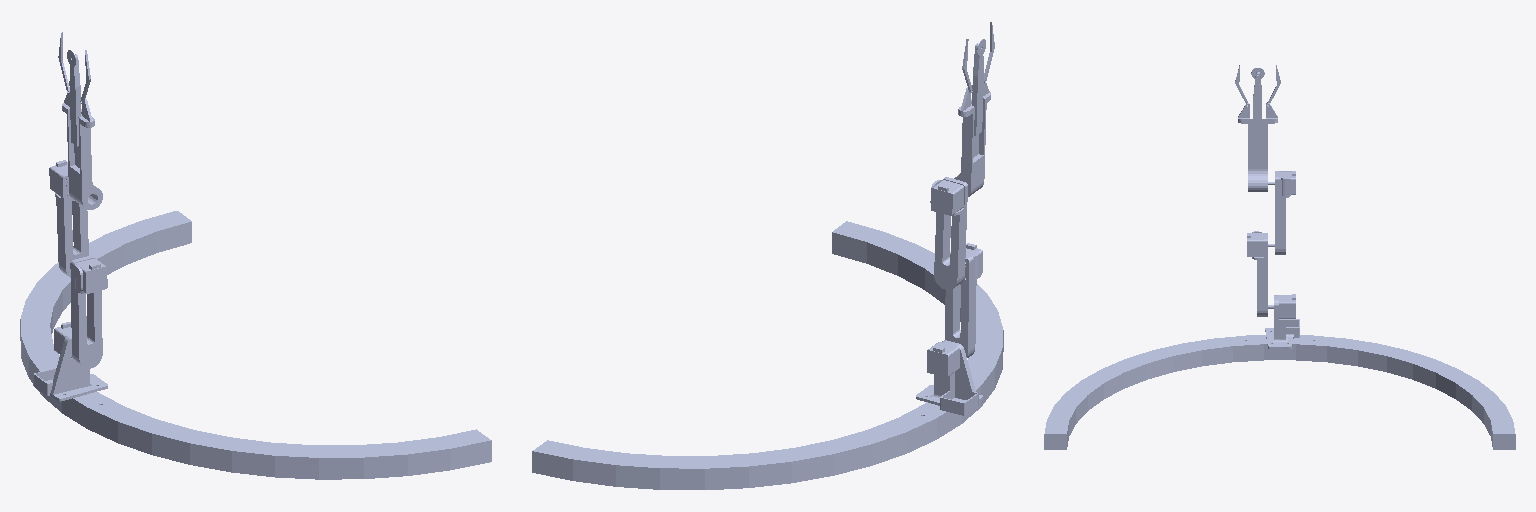
The robot description file, URDF, robot "urdf_assembly7":
<?xml version="1.0" encoding="utf-8"?>
<!-- This URDF was automatically created by SolidWorks to URDF Exporter! Originally created by [author] ([email redacted]) 
     Commit Version: 1.6.0-4-g7f85cfe  Build Version: 1.6.7995.38578
     For more information, please see http://wiki.ros.org/sw_urdf_exporter -->
<robot
  name="urdf_assembly7">
  <link name="world"/>
<joint name="base_joint" type="fixed">
<parent link="world"/>
<child link="base_link"/>
<origin rpy="0 0 0" xyz="0.0 0.0 0.17"/>
</joint>
  <link
    name="base_link">
    <inertial>
      <origin
        xyz="0.18715 -0.0036641 -0.02"
        rpy="0 0 0" />
      <mass
        value="3.1393" />
      <inertia
        ixx="0.39409"
        ixy="-7.8008E-16"
        ixz="5.8268E-18"
        iyy="0.075189"
        iyz="-1.3825E-15"
        izz="0.46844" />
    </inertial>
    <visual>
      <origin
        xyz="0 0 0"
        rpy="0 0 0" />
      <geometry>
        <mesh
          filename="package://urdf_assembly7/meshes/base_link.STL" />
      </geometry>
      <material
        name="">
        <color
          rgba="0.79216 0.81961 0.93333 1" />
      </material>
    </visual>
    <collision>
      <origin
        xyz="0 0 0"
        rpy="0 0 0" />
      <geometry>
        <mesh
          filename="package://urdf_assembly7/meshes/base_link.STL" />
      </geometry>
    </collision>
  </link>
  <link
    name="link_1">
    <inertial>
      <origin
        xyz="0.0022751 0.0027273 0.048"
        rpy="0 0 0" />
      <mass
        value="0.18755" />
      <inertia
        ixx="0.00012837"
        ixy="5.4308E-06"
        ixz="-6.4792E-06"
        iyy="0.00016574"
        iyz="1.1697E-05"
        izz="0.00010234" />
    </inertial>
    <visual>
      <origin
        xyz="0 0 0"
        rpy="0 0 0" />
      <geometry>
        <mesh
          filename="package://urdf_assembly7/meshes/link_1.STL" />
      </geometry>
      <material
        name="">
        <color
          rgba="0.79216 0.81961 0.93333 1" />
      </material>
    </visual>
    <collision>
      <origin
        xyz="0 0 0"
        rpy="0 0 0" />
      <geometry>
        <mesh
          filename="package://urdf_assembly7/meshes/link_1.STL" />
      </geometry>
    </collision>
  </link>
  <joint
    name="joint_1"
    type="fixed">
    <origin
      xyz="0 0 0"
      rpy="0 0 0" />
    <parent
      link="base_link" />
    <child
      link="link_1" />
    <axis
      xyz="0 0 0" />
  </joint>
  <link
    name="link_2">
    <inertial>
      <origin
        xyz="0.090372 0.0021784 0.02533"
        rpy="0 0 0" />
      <mass
        value="0.21327" />
      <inertia
        ixx="6.0043E-05"
        ixy="-1.7244E-05"
        ixz="-2.7389E-06"
        iyy="0.0004247"
        iyz="-1.7683E-06"
        izz="0.00044869" />
    </inertial>
    <visual>
      <origin
        xyz="0 0 0"
        rpy="0 0 0" />
      <geometry>
        <mesh
          filename="package://urdf_assembly7/meshes/link_2.STL" />
      </geometry>
      <material
        name="">
        <color
          rgba="0.79216 0.81961 0.93333 1" />
      </material>
    </visual>
    <collision>
      <origin
        xyz="0 0 0"
        rpy="0 0 0" />
      <geometry>
        <mesh
          filename="package://urdf_assembly7/meshes/link_2.STL" />
      </geometry>
    </collision>
  </link>
  <joint
    name="joint_2"
    type="revolute">
    <origin
      xyz="0.0064986 -0.022747 0.08"
      rpy="1.5708 -1.5708 0" />
    <parent
      link="link_1" />
    <child
      link="link_2" />
    <axis
      xyz="0 0 1" />
    <limit
      lower="-1.8"
      upper="1.8"
      effort="0.7"
      velocity="6" />
  </joint>
  <link
    name="link_3">
    <inertial>
      <origin
        xyz="0.090354 -0.0028115 0.02533"
        rpy="0 0 0" />
      <mass
        value="0.21327" />
      <inertia
        ixx="5.9254E-05"
        ixy="2.9511E-06"
        ixz="-2.8323E-06"
        iyy="0.00042549"
        iyz="-1.6145E-06"
        izz="0.00044869" />
    </inertial>
    <visual>
      <origin
        xyz="0 0 0"
        rpy="0 0 0" />
      <geometry>
        <mesh
          filename="package://urdf_assembly7/meshes/link_3.STL" />
      </geometry>
      <material
        name="">
        <color
          rgba="0.79216 0.81961 0.93333 1" />
      </material>
    </visual>
    <collision>
      <origin
        xyz="0 0 0"
        rpy="0 0 0" />
      <geometry>
        <mesh
          filename="package://urdf_assembly7/meshes/link_3.STL" />
      </geometry>
    </collision>
  </link>
  <joint
    name="joint_3"
    type="revolute">
    <origin
      xyz="0.14998 0.0026764 0"
      rpy="3.1416 0 0" />
    <parent
      link="link_2" />
    <child
      link="link_3" />
    <axis
      xyz="0 0 1" />
    <limit
      lower="-1.8"
      upper="1.8"
      effort="0.7"
      velocity="6" />
  </joint>
  <link
    name="link_4">
    <inertial>
      <origin
        xyz="0.08494 0.010214 0.029998"
        rpy="0 0 0" />
      <mass
        value="0.18066" />
      <inertia
        ixx="5.1559E-05"
        ixy="-2.6282E-05"
        ixz="4.5854E-09"
        iyy="0.00044714"
        iyz="1.3936E-10"
        izz="0.00041927" />
    </inertial>
    <visual>
      <origin
        xyz="0 0 0"
        rpy="0 0 0" />
      <geometry>
        <mesh
          filename="package://urdf_assembly7/meshes/link_4.STL" />
      </geometry>
      <material
        name="">
        <color
          rgba="0.79216 0.81961 0.93333 1" />
      </material>
    </visual>
    <collision>
      <origin
        xyz="0 0 0"
        rpy="0 0 0" />
      <geometry>
        <mesh
          filename="package://urdf_assembly7/meshes/link_4.STL" />
      </geometry>
    </collision>
  </link>
  <joint
    name="joint_4"
    type="revolute">
    <origin
      xyz="0.1499 -0.0056031 0"
      rpy="3.1416 0 0" />
    <parent
      link="link_3" />
    <child
      link="link_4" />
    <axis
      xyz="0 0 1" />
    <limit
      lower="-1.8"
      upper="1.8"
      effort="0.7"
      velocity="6" />
  </joint>
    <transmission name="link_1_trans">
<type>transmission_interface/SimpleTransmission</type>
<joint name="joint_1">
<hardwareInterface>hardware_interface/PositionJointInterface</hardwareInterface>
</joint>
<actuator name="link_1_motor">
<hardwareInterface>hardware_interface/PositionJointInterface</hardwareInterface>
<mechanicalReduction>1</mechanicalReduction>
</actuator>
</transmission>

<transmission name="link_2_trans">
<type>transmission_interface/SimpleTransmission</type>
<joint name="joint_2">
<hardwareInterface>hardware_interface/PositionJointInterface</hardwareInterface>
</joint>
<actuator name="link_2_motor">
<hardwareInterface>hardware_interface/PositionJointInterface</hardwareInterface>
<mechanicalReduction>1</mechanicalReduction>
</actuator>
</transmission>

<transmission name="link_3_trans">
<type>transmission_interface/SimpleTransmission</type>
<joint name="joint_3">
<hardwareInterface>hardware_interface/PositionJointInterface</hardwareInterface>
</joint>
<actuator name="link_3_motor">
<hardwareInterface>hardware_interface/PositionJointInterface</hardwareInterface>
<mechanicalReduction>1</mechanicalReduction>
</actuator>
</transmission>

<transmission name="link_4_trans">
<type>transmission_interface/SimpleTransmission</type>
<joint name="joint_4">
<hardwareInterface>hardware_interface/PositionJointInterface</hardwareInterface>
</joint>
<actuator name="link_4_motor">
<hardwareInterface>hardware_interface/PositionJointInterface</hardwareInterface>
<mechanicalReduction>1</mechanicalReduction>
</actuator>
</transmission>

<gazebo>
<plugin name="gazebo_ros_control"
filename="libgazebo_ros_control.so">
<robotNamespace>/</robotNamespace>
</plugin>
</gazebo>


<gazebo reference="link_2">
<selfCollide>true</selfCollide>
</gazebo>

<gazebo reference="link_3">
<selfCollide>true</selfCollide>
</gazebo>

<gazebo reference="link_4">
<selfCollide>true</selfCollide>
</gazebo>

</robot>

--- Facts derived from the render (not from the file) ---
3 views of the same robot in one strip: view 1: azimuth 30°, elevation 25°; view 2: azimuth 150°, elevation 25°; view 3: azimuth 270°, elevation 25° (orthographic).
Robot: urdf_assembly7 — 6 links, 5 joints (3 revolute, 2 fixed); root link world; default pose: all joints at 0.
Visible links, largest first — view 1: base_link, link_4, link_2, link_3, link_1; view 2: base_link, link_3, link_4, link_1, link_2; view 3: base_link, link_4, link_1, link_2, link_3.
Link boxes in pixels (x1,y1,x2,y2): base_link: [20, 211, 491, 479]; link_4: [58, 32, 102, 209]; link_2: [70, 255, 107, 368]; link_3: [49, 160, 88, 277]; link_1: [33, 322, 107, 401]; base_link: [532, 221, 1003, 489]; link_3: [930, 177, 967, 289]; link_4: [954, 22, 994, 196]; link_1: [916, 340, 982, 415]; link_2: [945, 243, 982, 357]; base_link: [1044, 335, 1515, 449]; link_4: [1235, 65, 1280, 191]; link_1: [1265, 294, 1299, 348]; link_2: [1247, 231, 1274, 316]; link_3: [1268, 171, 1295, 254].
Size in the robot's own frame: 0.5559 by 1.05 by 0.7074 metres.
5 mesh visuals loaded from 5 distinct referenced files (5 binary STL).